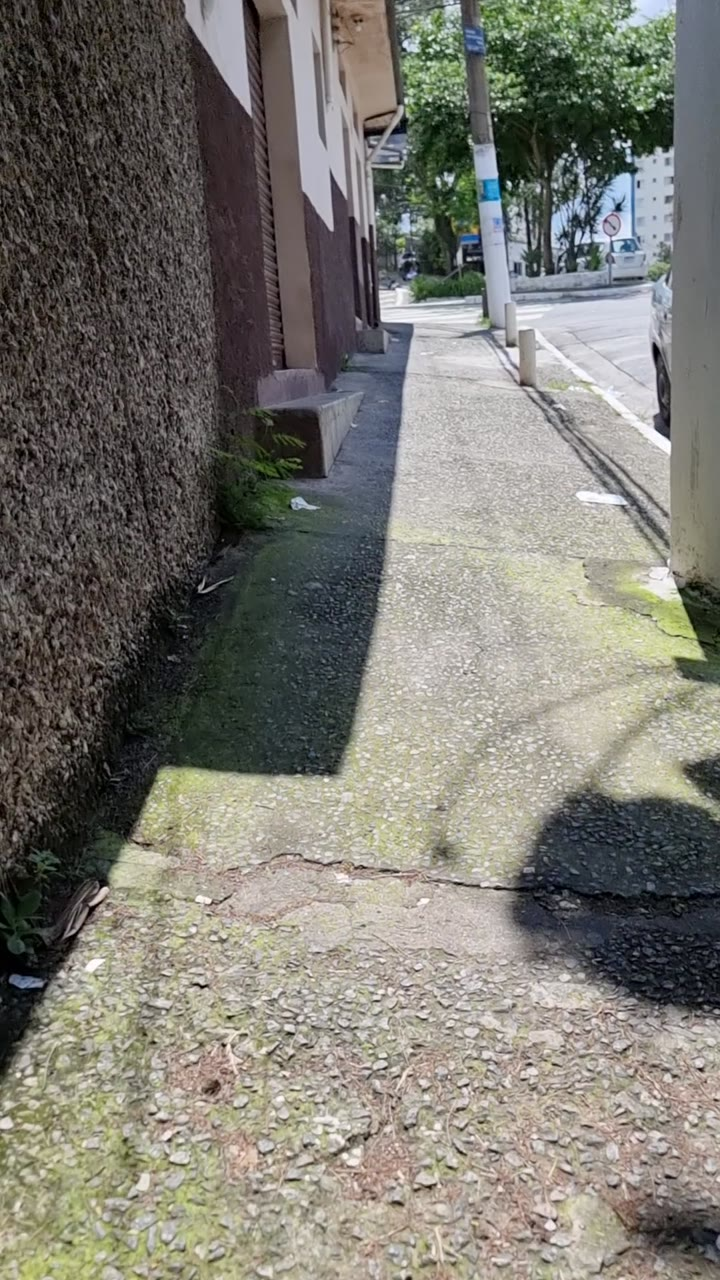obstaculo: (670, 0, 720, 678), (505, 302, 517, 346)
